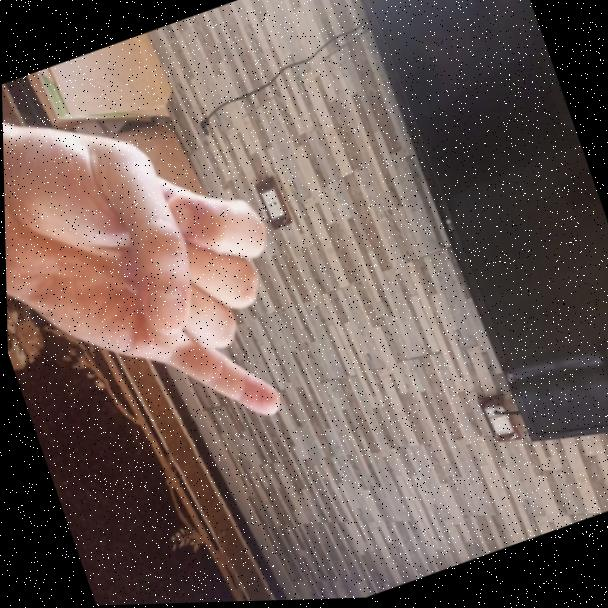five: (1, 78, 328, 486)
